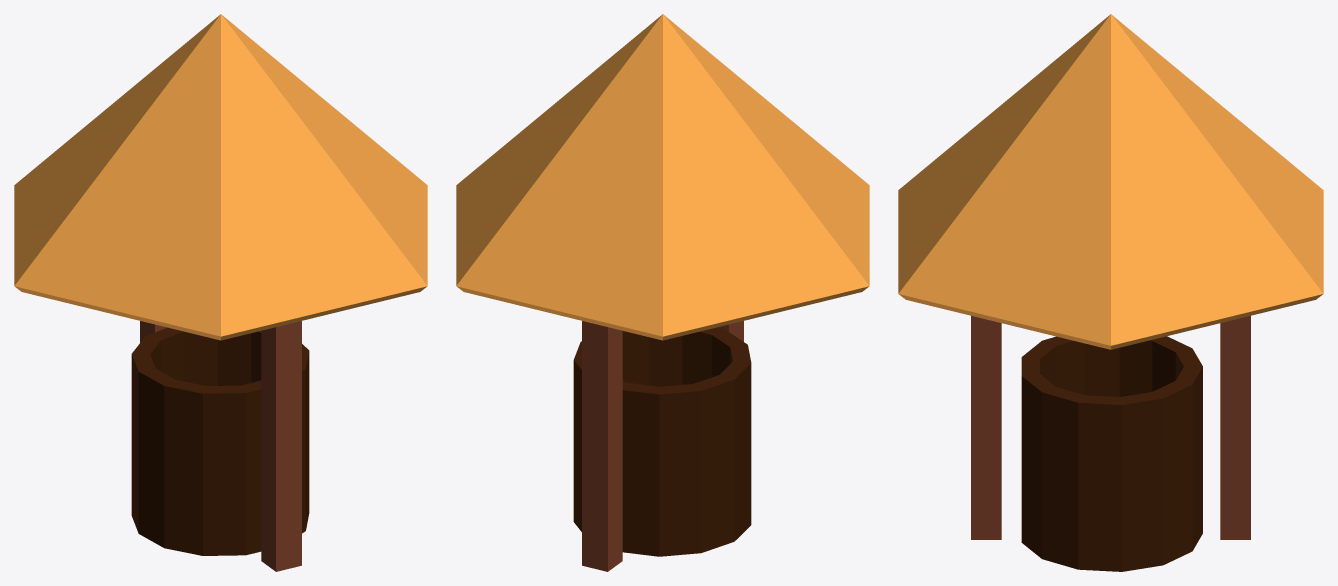
Rendered from Studnia.fbx.
The picture shows the model from 3 angles, left to right: view 1: azimuth 30°, elevation 25°; view 2: azimuth 150°, elevation 25°; view 3: azimuth 270°, elevation 25°; orthographic projection. The views are drawn at different scales.
Parts seen in each view (by area): view 1: Studnia; view 2: Studnia; view 3: Studnia.
Boxes of the visible parts, x1,y1,x2,y2 form: Studnia: (14,14,427,571); Studnia: (456,14,869,571); Studnia: (898,14,1323,571).
Bounding box in the file's own units: 80 × 93.36 × 69.28.
